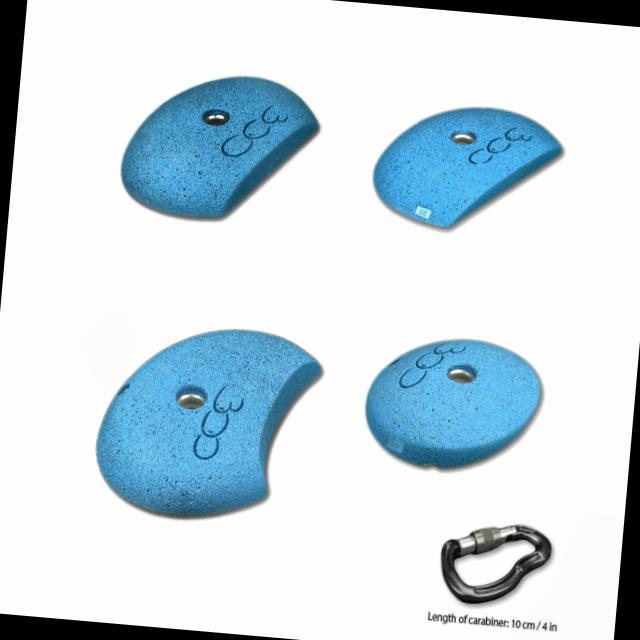Hold: (89, 322, 325, 530), (114, 64, 322, 234), (362, 95, 572, 239), (358, 332, 545, 476)
